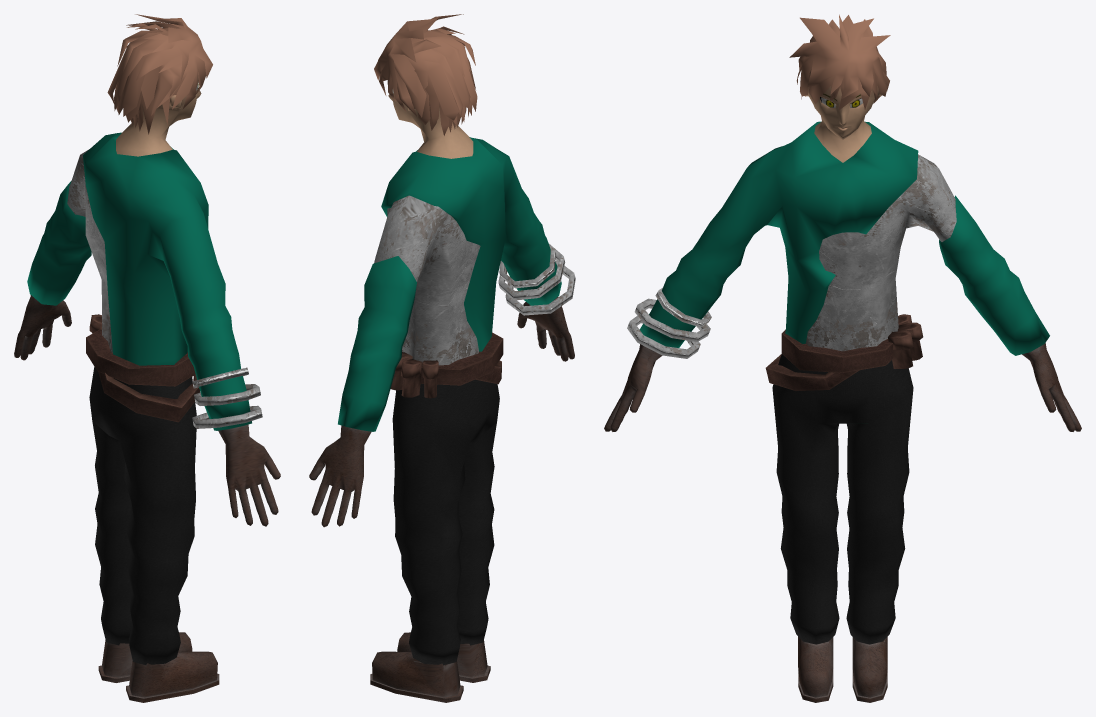
The model's file is Stefan.fbx.
3 renders of one model, left to right at view 1: azimuth 30°, elevation 25°; view 2: azimuth 150°, elevation 25°; view 3: azimuth 270°, elevation 25°, orthographic.
Visible parts, largest first — view 1: Cube.009, Cube.003, Cube.007, Cube.024; view 2: Cube.009, Cube.003, Cube.024, Cube.007; view 3: Cube.009, Cube.003, Cube.007, Cube.024.
Boxes of the visible parts, x1,y1,x2,y2 form: Cube.009: (14,132,280,702); Cube.003: (107,14,212,134); Cube.007: (116,75,201,156); Cube.024: (109,16,211,130); Cube.009: (309,137,575,702); Cube.003: (374,14,477,135); Cube.024: (375,15,476,132); Cube.007: (388,88,473,158); Cube.009: (604,121,1081,702); Cube.003: (789,15,890,110); Cube.007: (800,69,881,162); Cube.024: (790,15,889,108).
Size of the model in its own units: 157 by 903 by 587.
2 materials, 2 textured.
